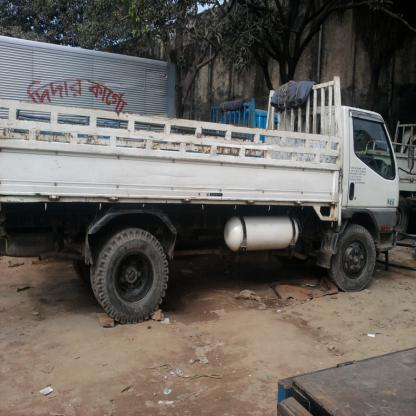truck: (1, 77, 400, 321)
